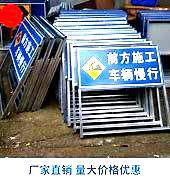sign: (78, 48, 162, 85), (11, 31, 37, 73)
